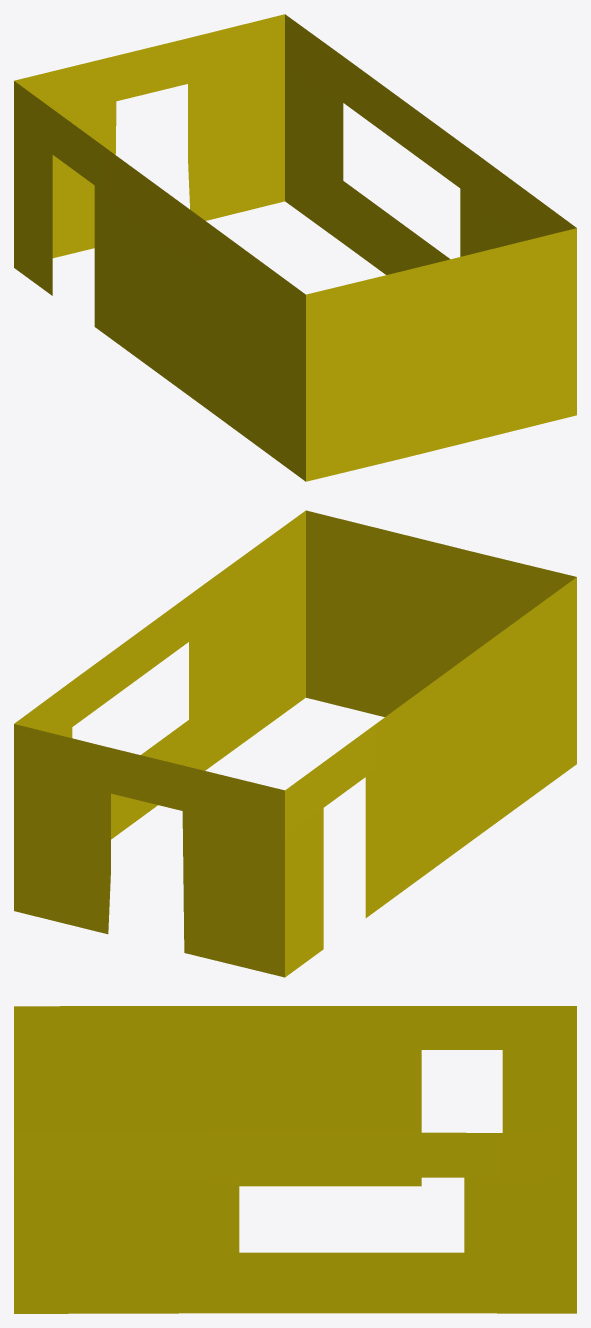
3 renders of one model, top to bottom at view 1: azimuth 30°, elevation 25°; view 2: azimuth 150°, elevation 25°; view 3: azimuth 270°, elevation 25°, orthographic. The views are drawn at different scales.
Visible parts, largest first — view 1: BH04_WP_11; view 2: BH04_WP_11; view 3: BH04_WP_11.
Boxes of the visible parts, x1,y1,x2,y2 form: BH04_WP_11: (14,14,576,481); BH04_WP_11: (14,510,576,977); BH04_WP_11: (14,1006,576,1313).
Size of the model in its own units: 455 by 302 by 848.
